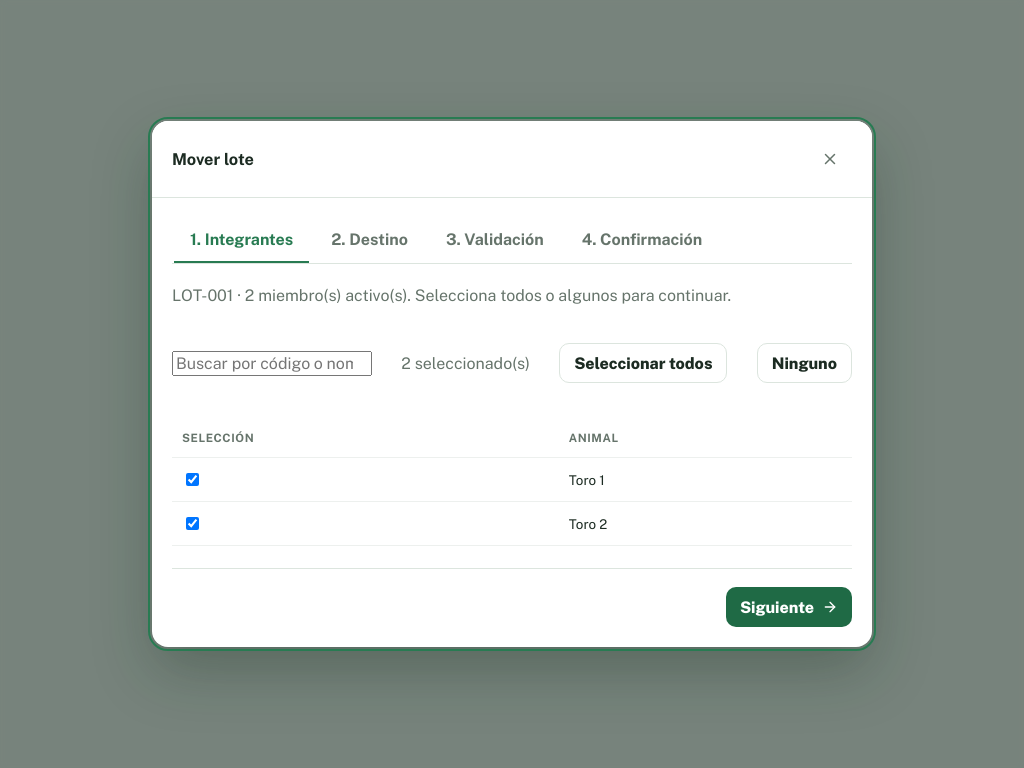
Test case: MoverLoteWizard › advierte que el lote quedará dividido si se mantiene la identidad con selección parcial
Expected: the text "Toro 1" is shown, left=559, top=458, right=852, bottom=502
Click the checkbox named "Seleccionar ANI-2". click: (192, 524)
box: left=186, top=517, right=199, bottom=530
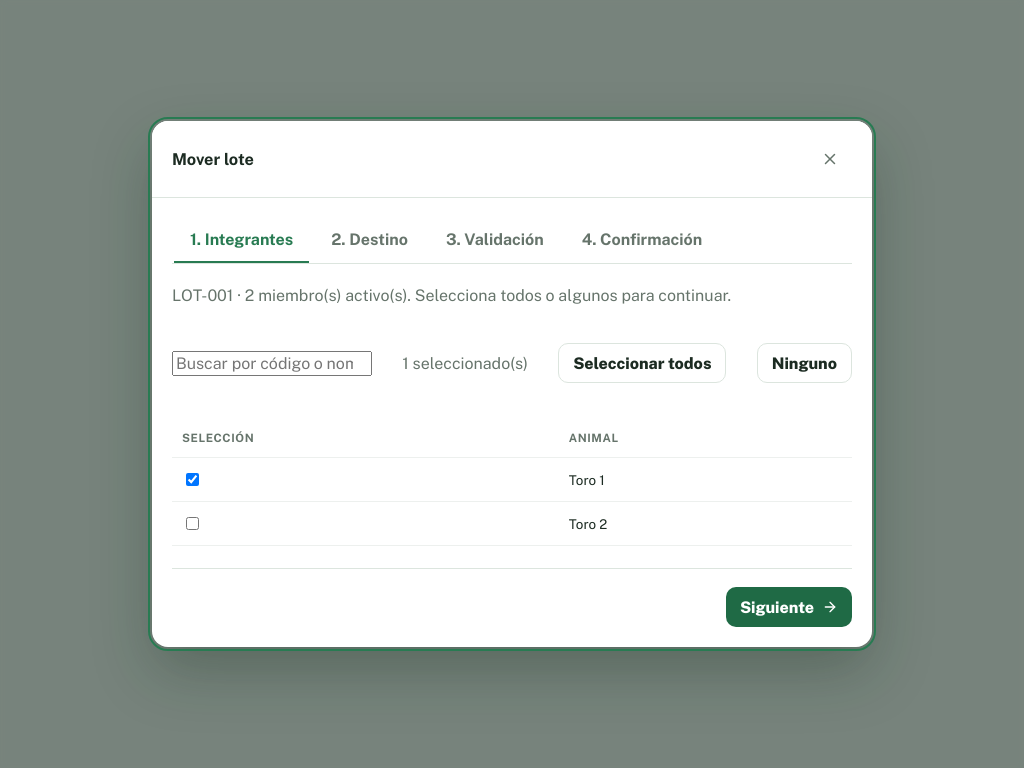
Expected: the text "1 seleccionado(s)" is shown, left=402, top=354, right=528, bottom=372
Click the button "Siguiente". click: (789, 607)
box: left=726, top=587, right=852, bottom=627
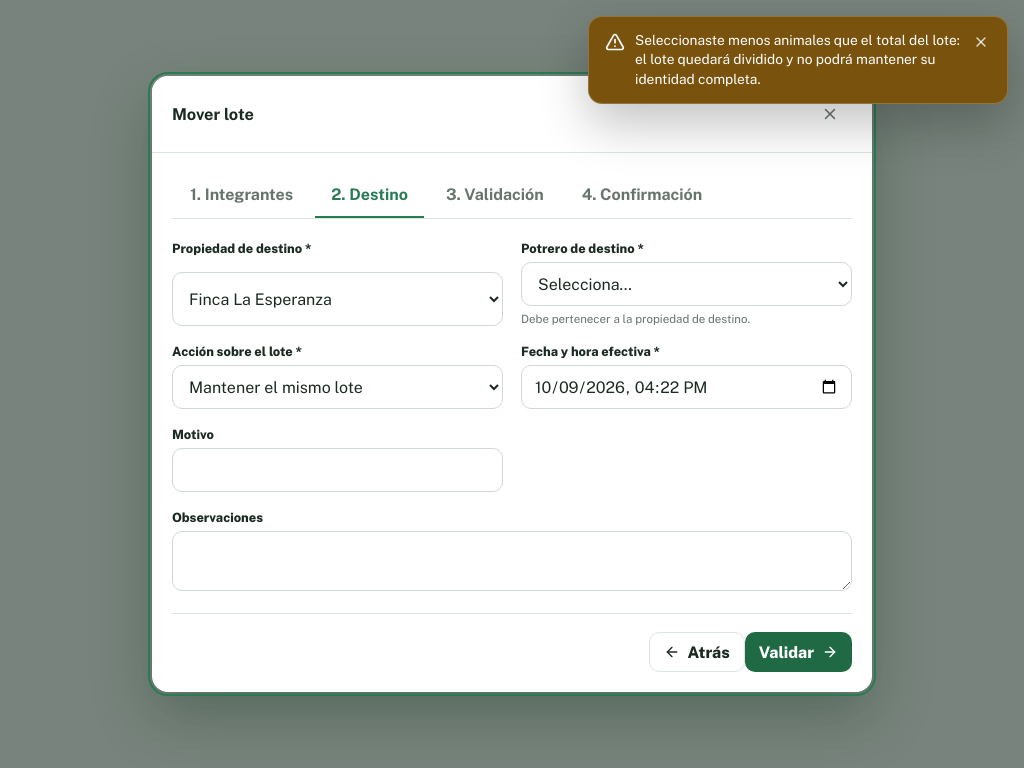
Expected: the dropdown labelled "Propiedad de destino *" is shown, left=173, top=278, right=502, bottom=320
Expected: the text "quedará dividido" is shown, left=635, top=32, right=960, bottom=86
